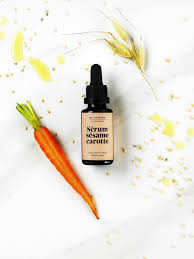carrot: (29, 121, 113, 223)
